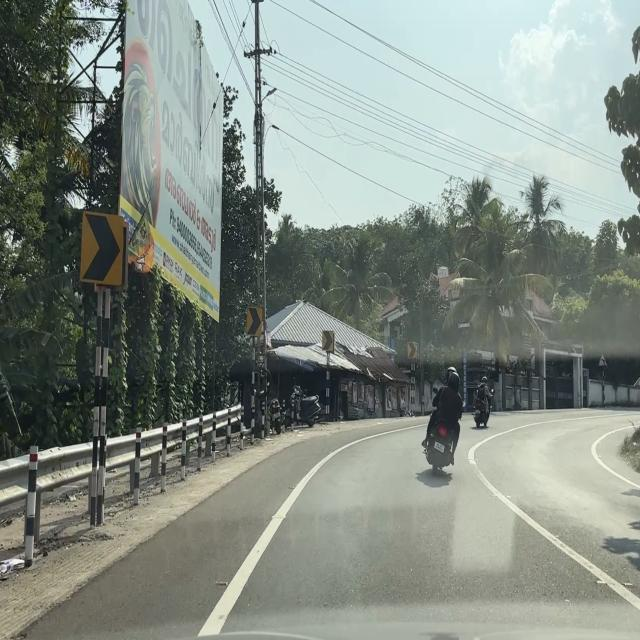TURN_RIGHT: (77, 208, 129, 292), (246, 306, 263, 338), (322, 330, 334, 352), (407, 341, 418, 360)
